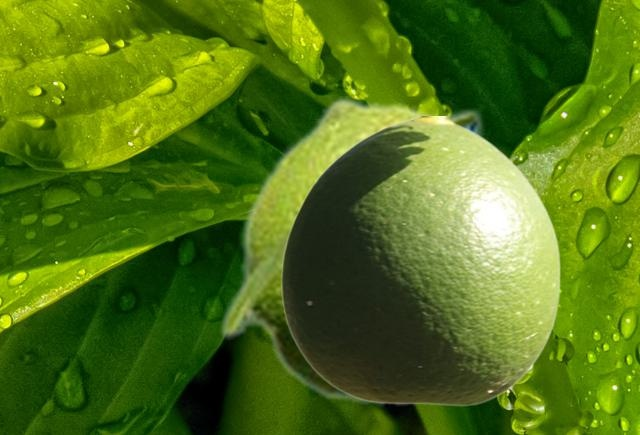dalandan: (217, 96, 490, 407), (280, 116, 560, 405)
